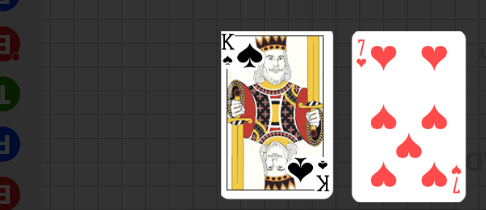7H: (449, 163, 462, 195)
KS: (315, 157, 331, 193)
